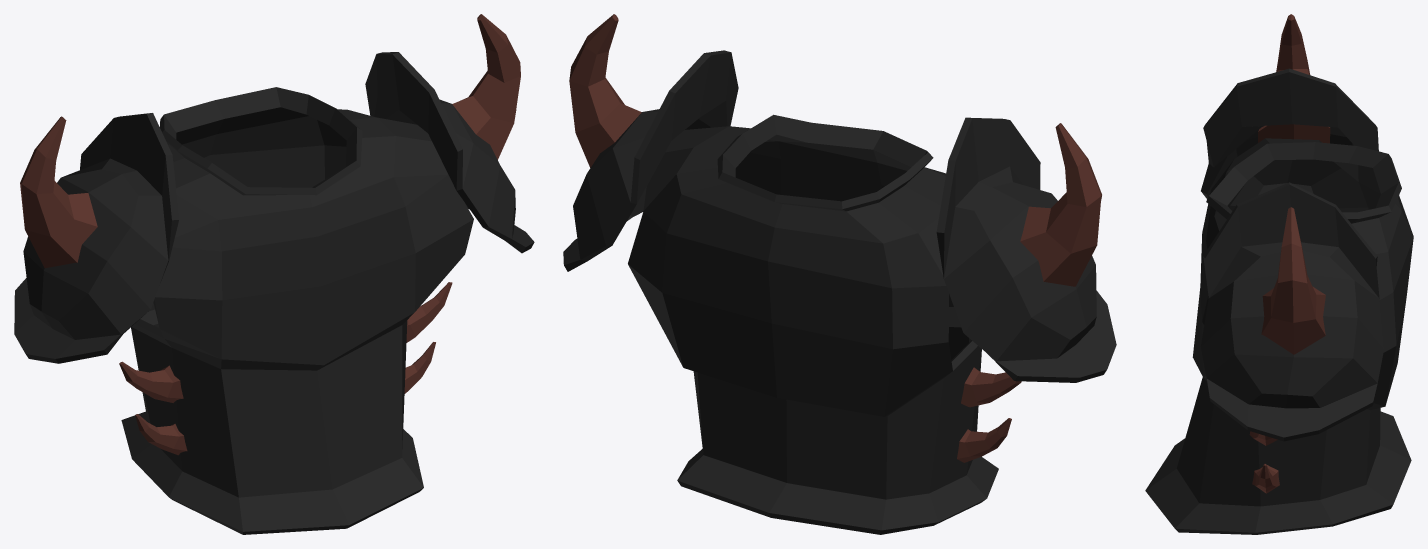
Rendered from Armor_Black.glb.
The picture shows the model from 3 angles, left to right: view 1: azimuth 30°, elevation 25°; view 2: azimuth 150°, elevation 25°; view 3: azimuth 270°, elevation 25°; orthographic projection. The views are drawn at different scales.
Visible parts, largest first — view 1: Black, DarkRed; view 2: Black, DarkRed; view 3: Black, DarkRed.
Part boxes in pixels (x1,y1,x2,y2): Black: (14, 52, 534, 534); DarkRed: (20, 14, 520, 455); Black: (563, 50, 1116, 534); DarkRed: (569, 14, 1101, 462); Black: (1145, 68, 1413, 534); DarkRed: (1249, 14, 1330, 493).
Bounding box in the file's own units: 1.54 × 1.2 × 0.7595.
